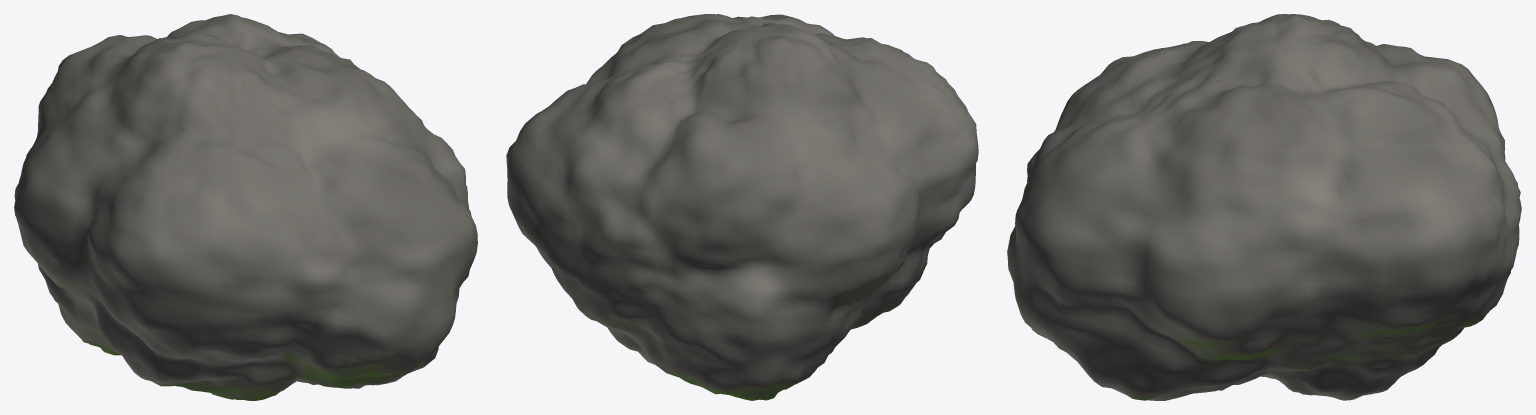
The model's file is SM_Rock_A.fbx.
The picture shows the model from 3 angles, left to right: view 1: azimuth 30°, elevation 25°; view 2: azimuth 150°, elevation 25°; view 3: azimuth 270°, elevation 25°; orthographic projection. The views are drawn at different scales.
Parts seen in each view (by area): view 1: SM_Rock_A; view 2: SM_Rock_A; view 3: SM_Rock_A.
Part boxes in pixels (<box>): SM_Rock_A: <box>14,14,477,400</box>; SM_Rock_A: <box>506,14,978,400</box>; SM_Rock_A: <box>1007,14,1521,400</box>.
Size of the model in its own units: 2.16 by 1.85 by 2.5.
